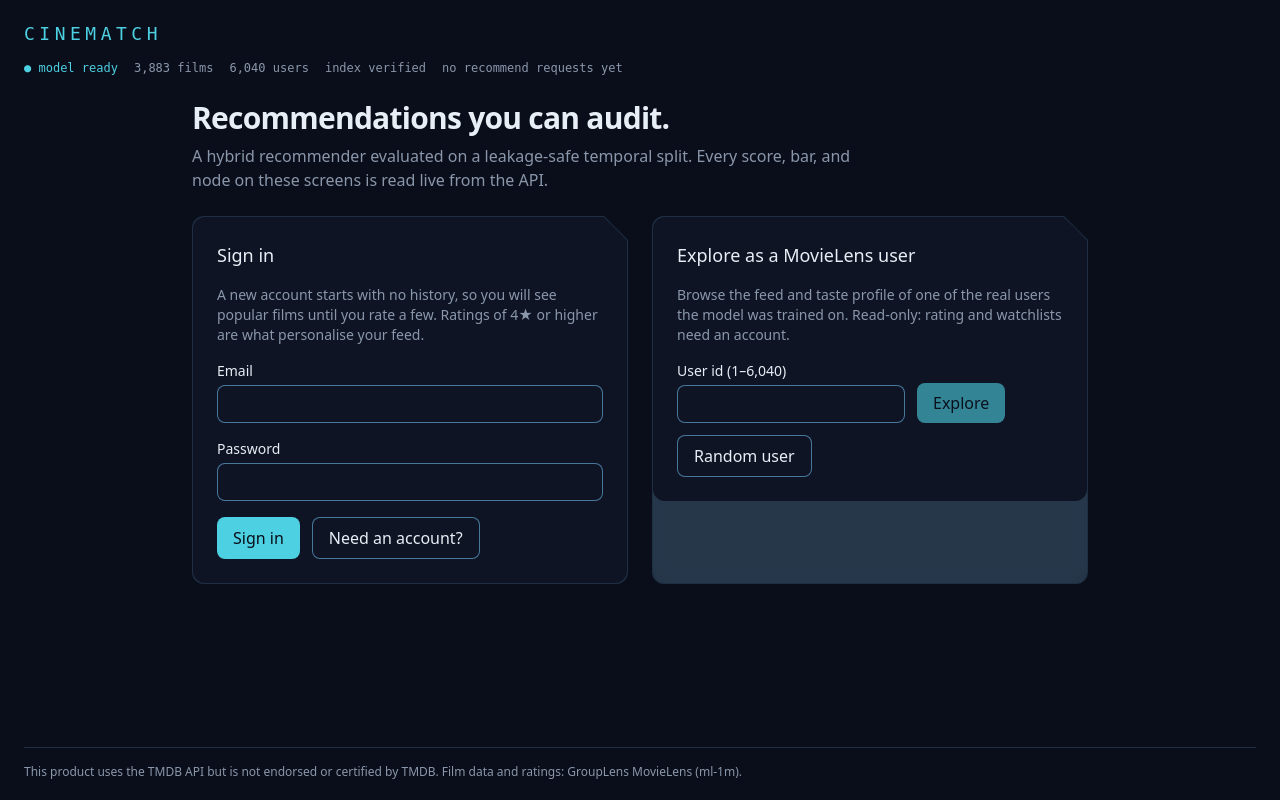
Session › surfaces the API message when sign-in fails
The width and height of the screenshot is (1280, 800).
Type "ada@example.com" into the field labelled "Email" at (410, 404), box [217,385,603,423]
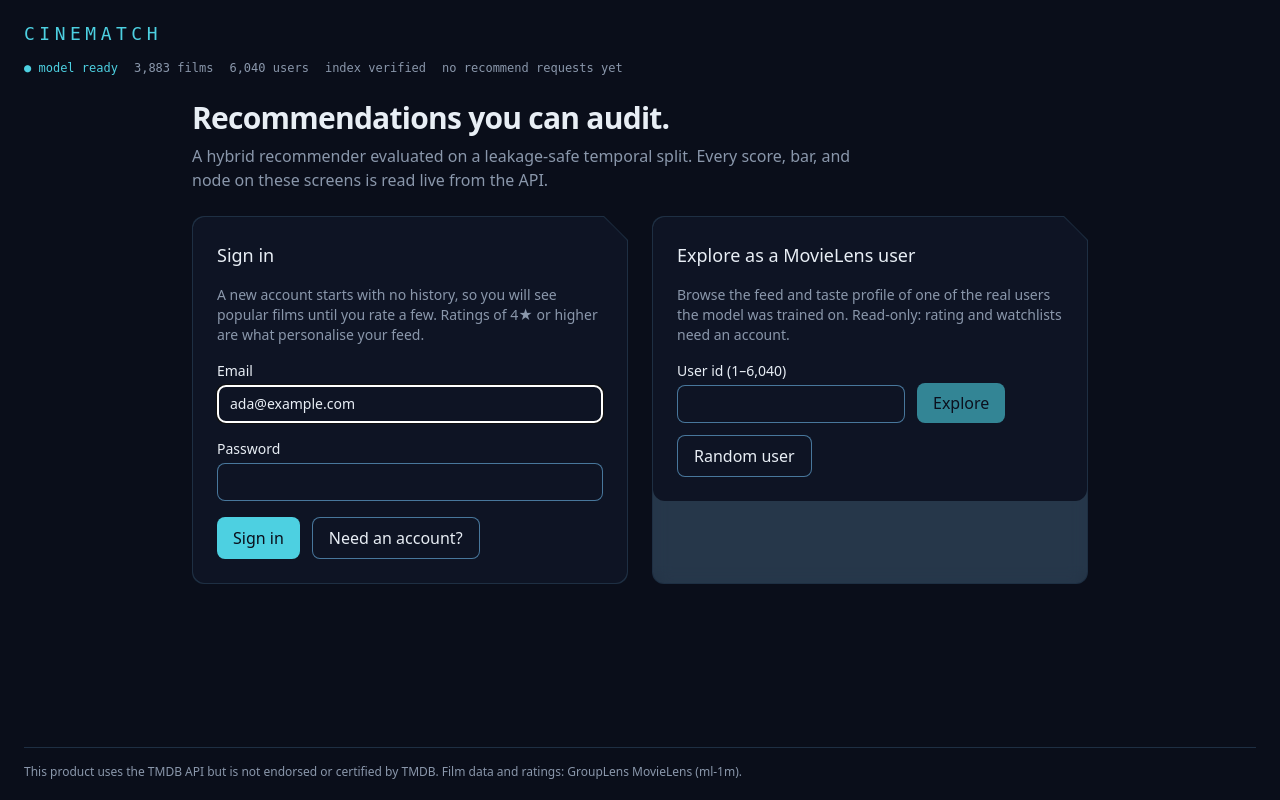
Type "wrong password" into the password field labelled "Password" at (410, 482), box [217,463,603,501]
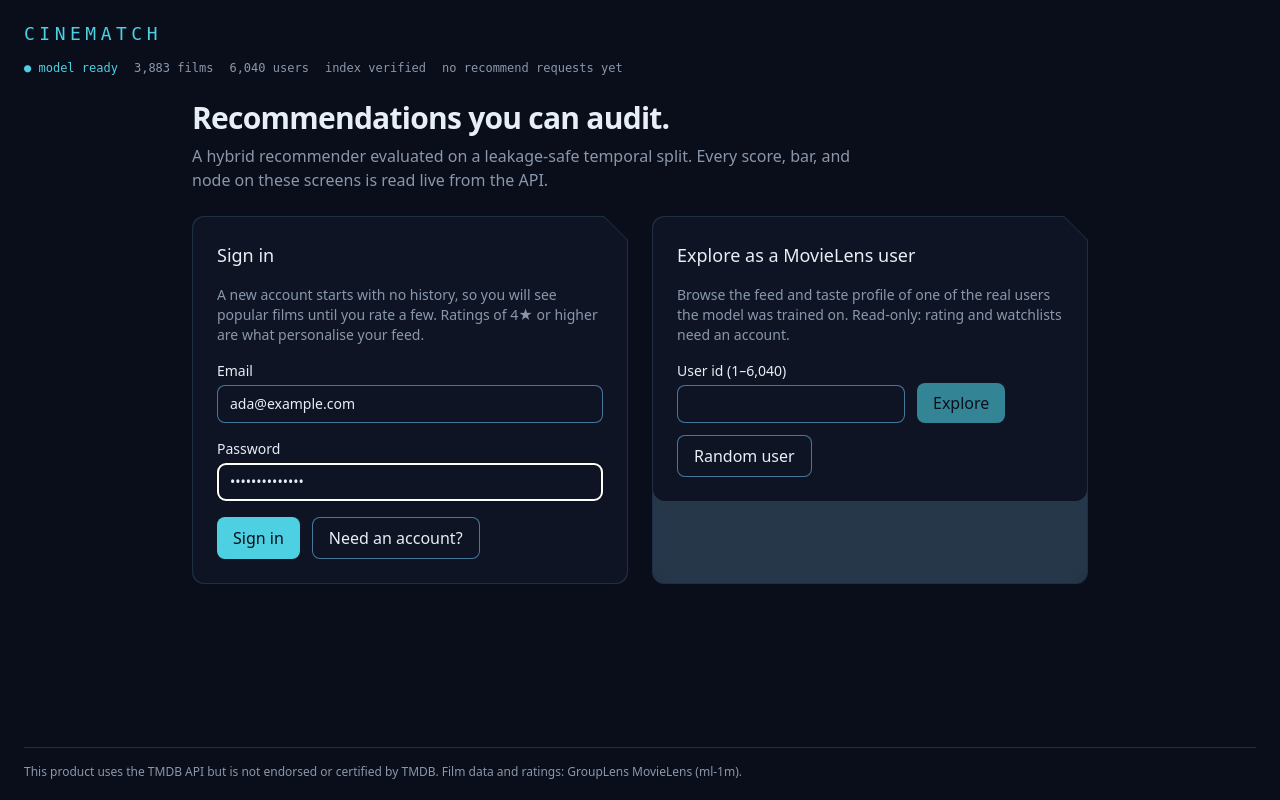
Click the button "Sign in" at (258, 538), box [217,517,300,559]
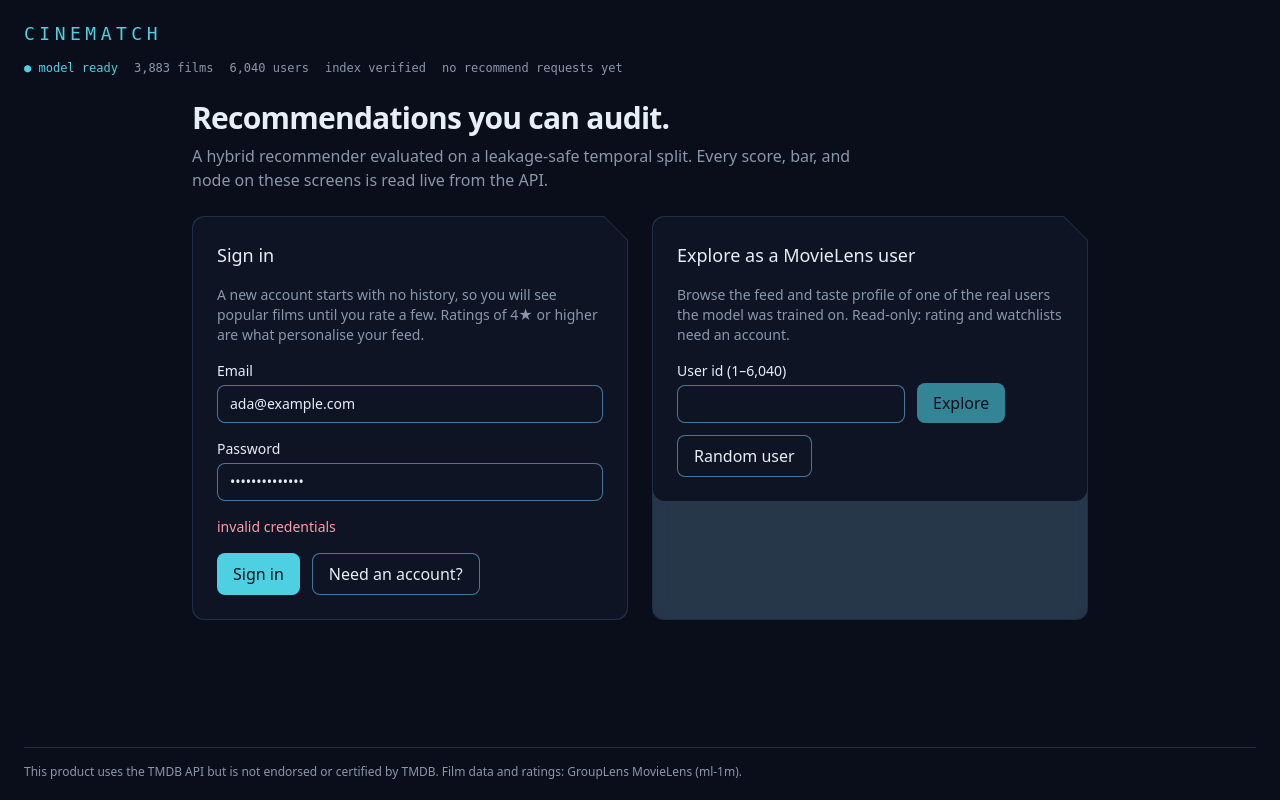
Check: the message reads "invalid credentials", box [217,517,336,536]
